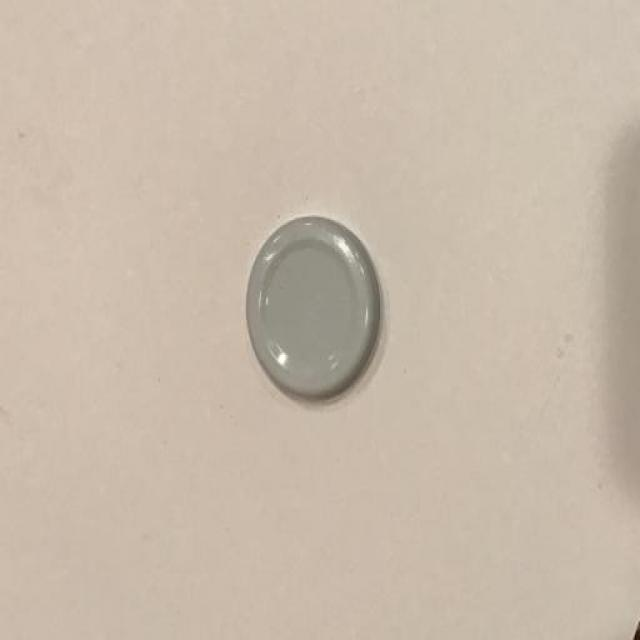recyclable: (246, 214, 382, 406)
